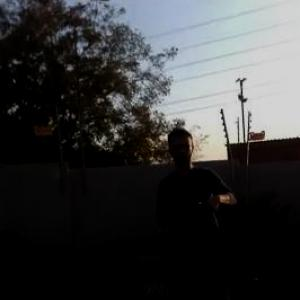follow: (149, 115, 242, 299)
